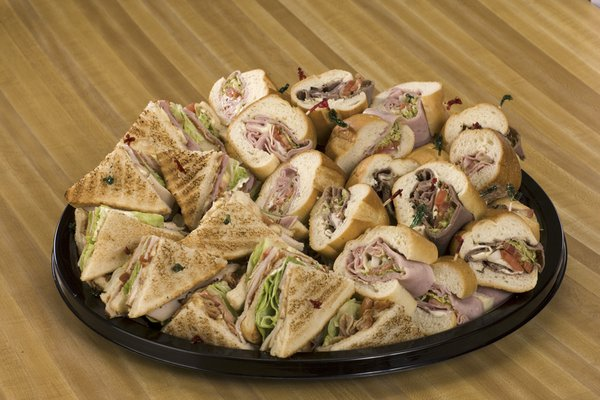soup: (387, 160, 488, 248), (452, 208, 545, 293)
